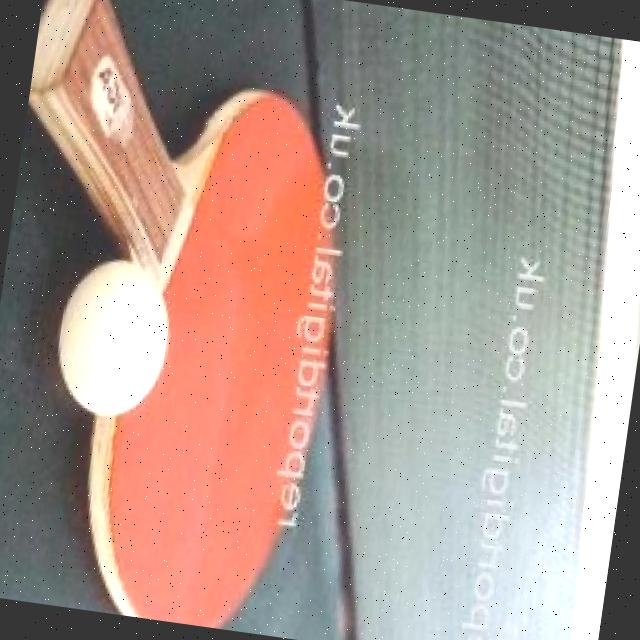ping-pong-ball: (48, 252, 176, 420)
